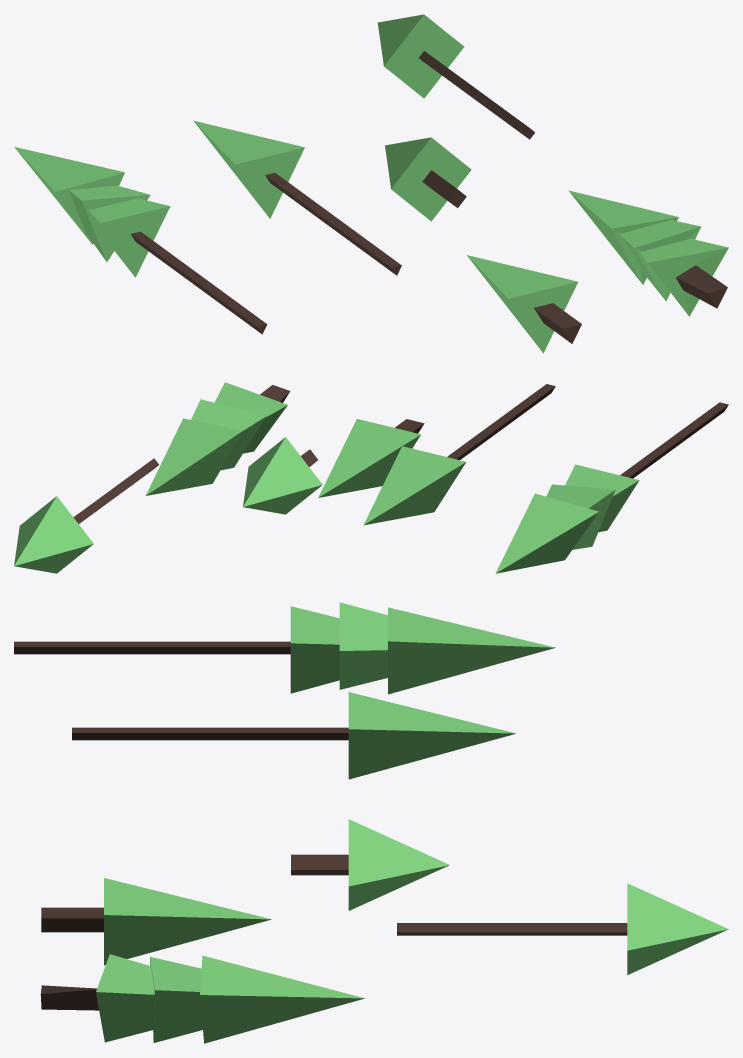
The model's file is firtrees.fbx.
3 views of the same model, one above another, from view 1: azimuth 30°, elevation 25°; view 2: azimuth 150°, elevation 25°; view 3: azimuth 270°, elevation 25° (orthographic). The views are drawn at different scales.
Visible parts, largest first — view 1: Cone.004, Cone.005, Cone.003, Cone.002, Cone, Cone.001; view 2: Cone.004, Cone.005, Cone.003, Cone.002, Cone, Cone.001; view 3: Cone.004, Cone.005, Cone.003, Cone, Cone.002, Cone.001.
Part boxes in pixels (bbox=[...]): Cone.004: bbox=[14, 147, 267, 334]; Cone.005: bbox=[568, 190, 728, 316]; Cone.003: bbox=[193, 120, 401, 275]; Cone.002: bbox=[377, 14, 534, 139]; Cone: bbox=[467, 255, 581, 353]; Cone.001: bbox=[385, 137, 471, 221]; Cone.004: bbox=[495, 402, 728, 573]; Cone.005: bbox=[145, 382, 290, 495]; Cone.003: bbox=[363, 384, 555, 525]; Cone.002: bbox=[14, 458, 158, 573]; Cone: bbox=[318, 419, 424, 497]; Cone.001: bbox=[243, 437, 322, 514]; Cone.004: bbox=[14, 602, 555, 694]; Cone.005: bbox=[40, 954, 364, 1043]; Cone.003: bbox=[72, 692, 515, 779]; Cone: bbox=[41, 878, 271, 965]; Cone.002: bbox=[397, 883, 728, 974]; Cone.001: bbox=[291, 819, 449, 910].
Bounding box in the file's own units: 1339 × 382 × 1408.
